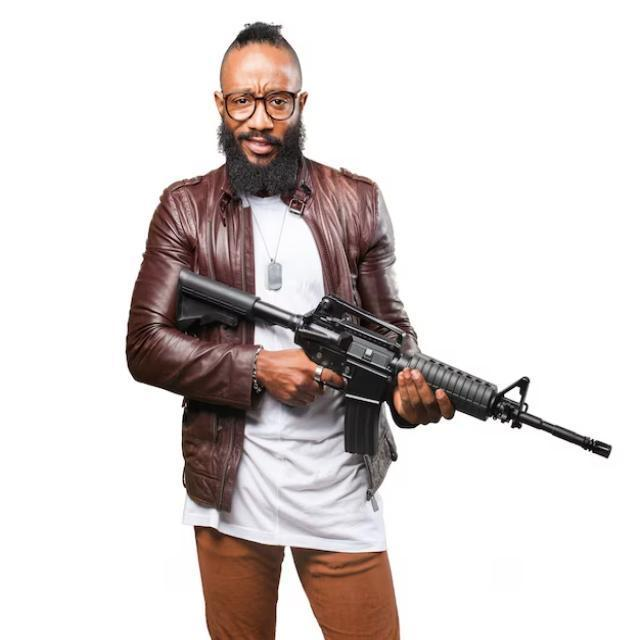Rifle: (162, 265, 619, 467)
